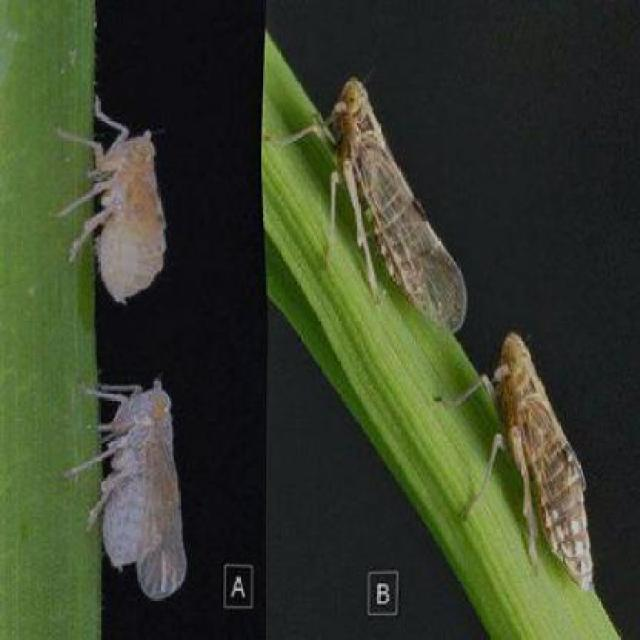brown-planthopper: (333, 79, 461, 330), (484, 326, 594, 597), (90, 380, 188, 598), (84, 96, 173, 307)
